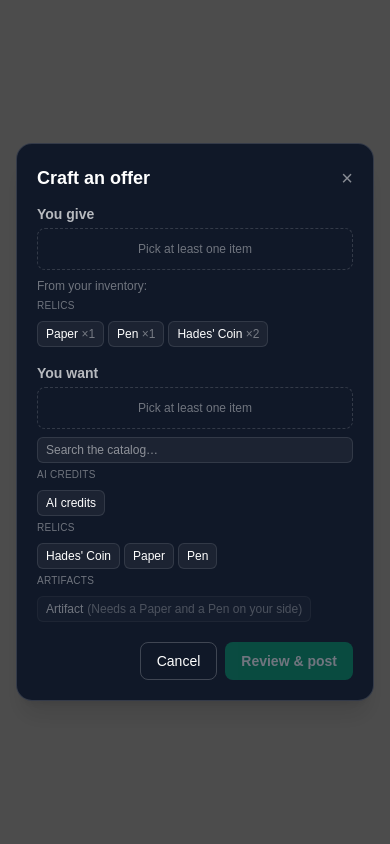
Scenario: CraftOfferModal -- Paper + Pen -> Artifact › always shows the Artifact to ask for, greyed out with what it needs until a Paper and a Pen are on your side
Check: the button "Artifact(Needs a Paper and a Pen on your side)" is disabled, box [37,596,311,622]
Check: the button "Artifact(Needs a Paper and a Pen on your side)" is shown, box [37,596,311,622]
Click the button "Paper ×1".
click(71, 334)  # box [37,321,104,347]
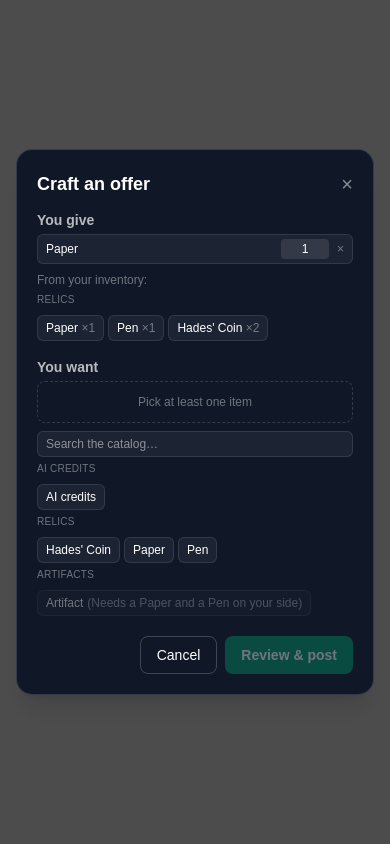
Check: the button "Artifact(Needs a Paper and a Pen on your side)" is disabled, box [37,590,311,616]
Click the button "Pen ×1".
click(136, 328)  # box [108,315,164,341]
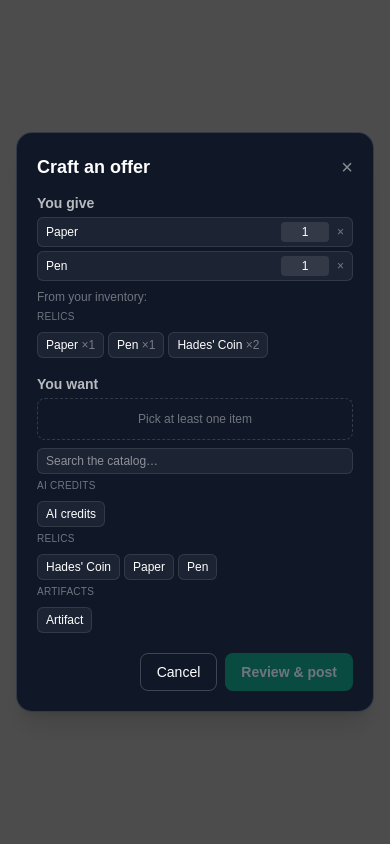
Check: the button "Artifact" is enabled, box [37,607,92,633]
Check: the button "Artifact" is shown, box [37,607,92,633]
